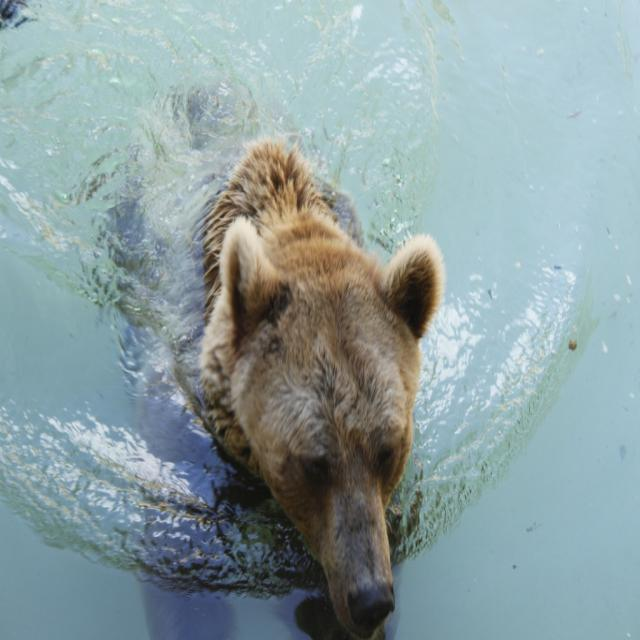Cheetahs: (106, 73, 446, 640)
